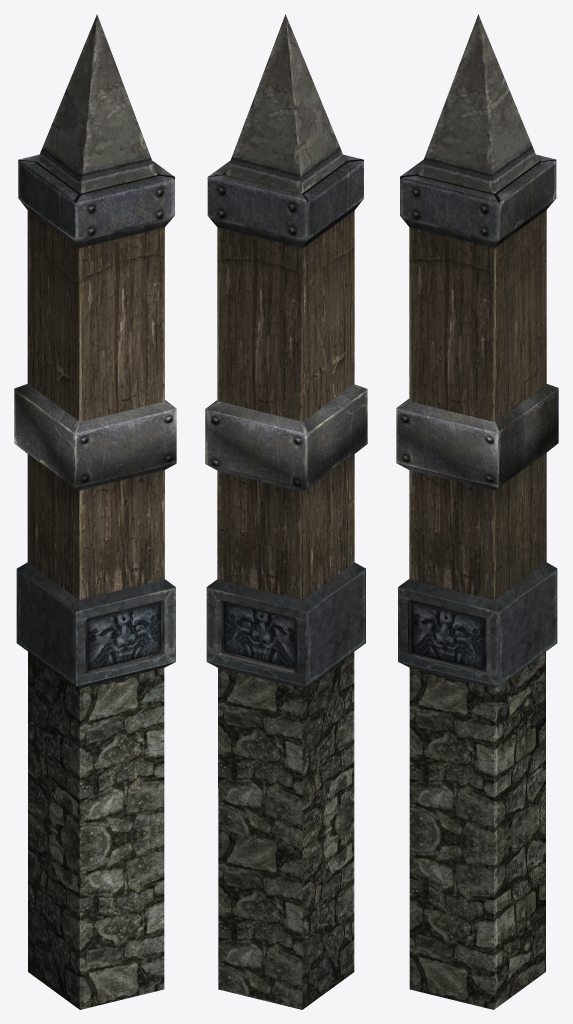
File: fortms_fence_pillar.glb
3 renders of one model, left to right at view 1: azimuth 30°, elevation 25°; view 2: azimuth 150°, elevation 25°; view 3: azimuth 330°, elevation 25°, orthographic.
Parts seen in each view (by area): view 1: Object17; view 2: Object17; view 3: Object17.
Part boxes in pixels (x1=…): Object17: x1=14, y1=14, x2=176, y2=1009; Object17: x1=205, y1=14, x2=367, y2=1009; Object17: x1=396, y1=14, x2=558, y2=1009.
Size of the model in its own units: 1.41 by 12.81 by 1.52.
Materials: 1 (1 with a texture image).
